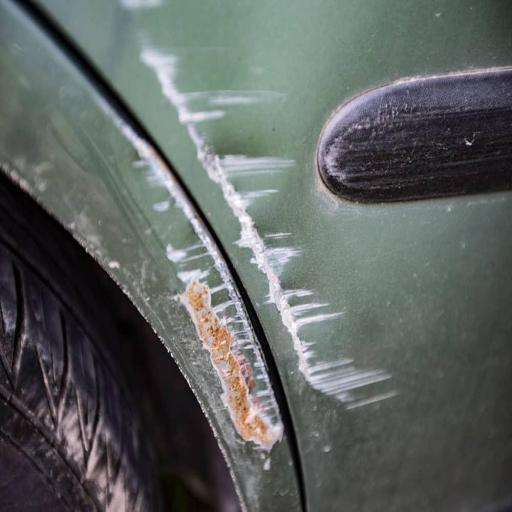corrosion: (164, 274, 288, 458)
